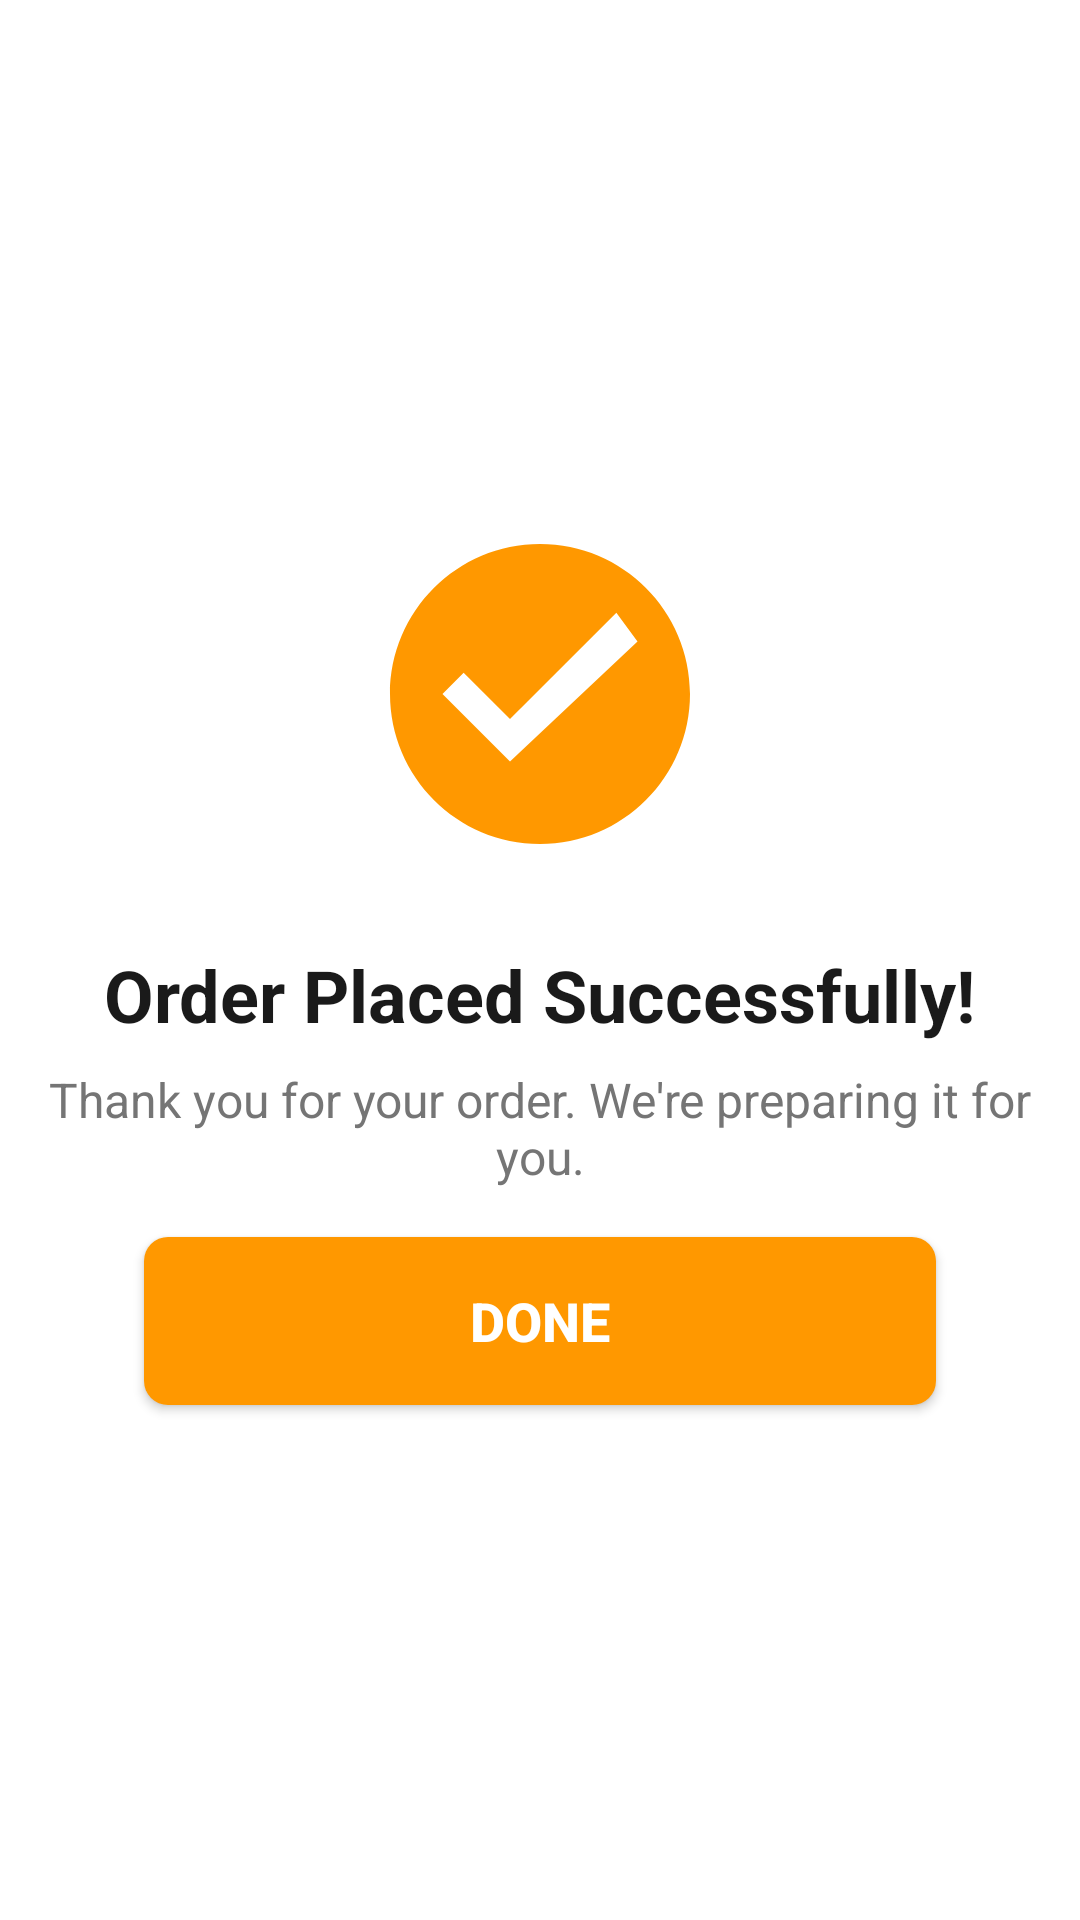

Icons on this 1080px x 1920px Android screen, each with the point to tap as (x,y):
Success Icon: (540,694)
